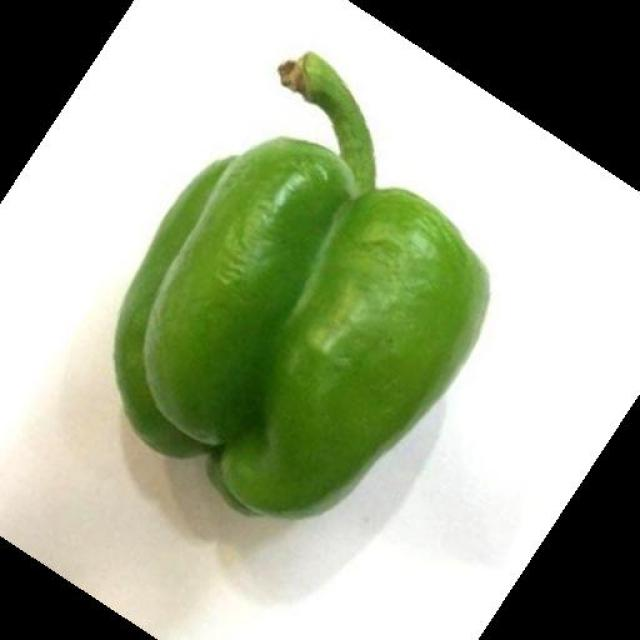Fresh_Capsicum: (148, 109, 465, 519)
